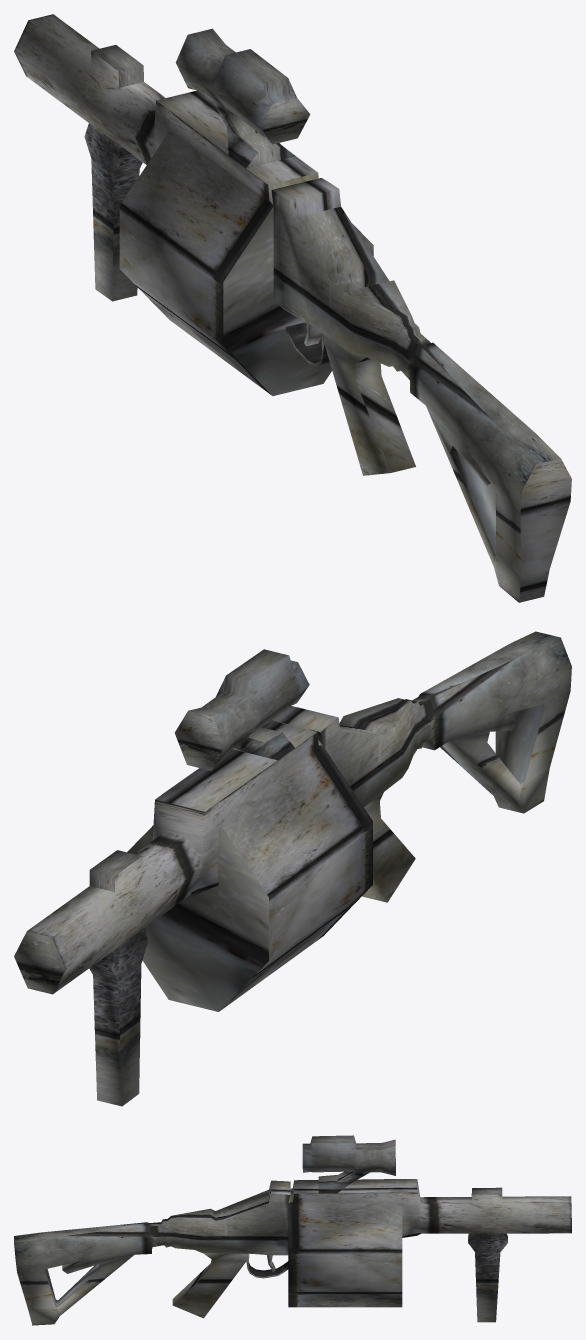
Rendered from Grenade Launcher.fbx.
3 renders of one model, top to bottom at view 1: azimuth 30°, elevation 25°; view 2: azimuth 150°, elevation 25°; view 3: azimuth 270°, elevation 25°, orthographic. The views are drawn at different scales.
Visible parts, largest first — view 1: Grenade_Launcher; view 2: Grenade_Launcher; view 3: Grenade_Launcher.
Boxes of the visible parts, x1,y1,x2,y2 form: Grenade_Launcher: (14,14,571,602); Grenade_Launcher: (14,631,571,1106); Grenade_Launcher: (14,1135,571,1325).
Bounding box in the file's own units: 1.33 × 2.83 × 7.8.
